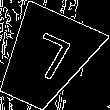L_SW: (17, 30, 74, 89)
